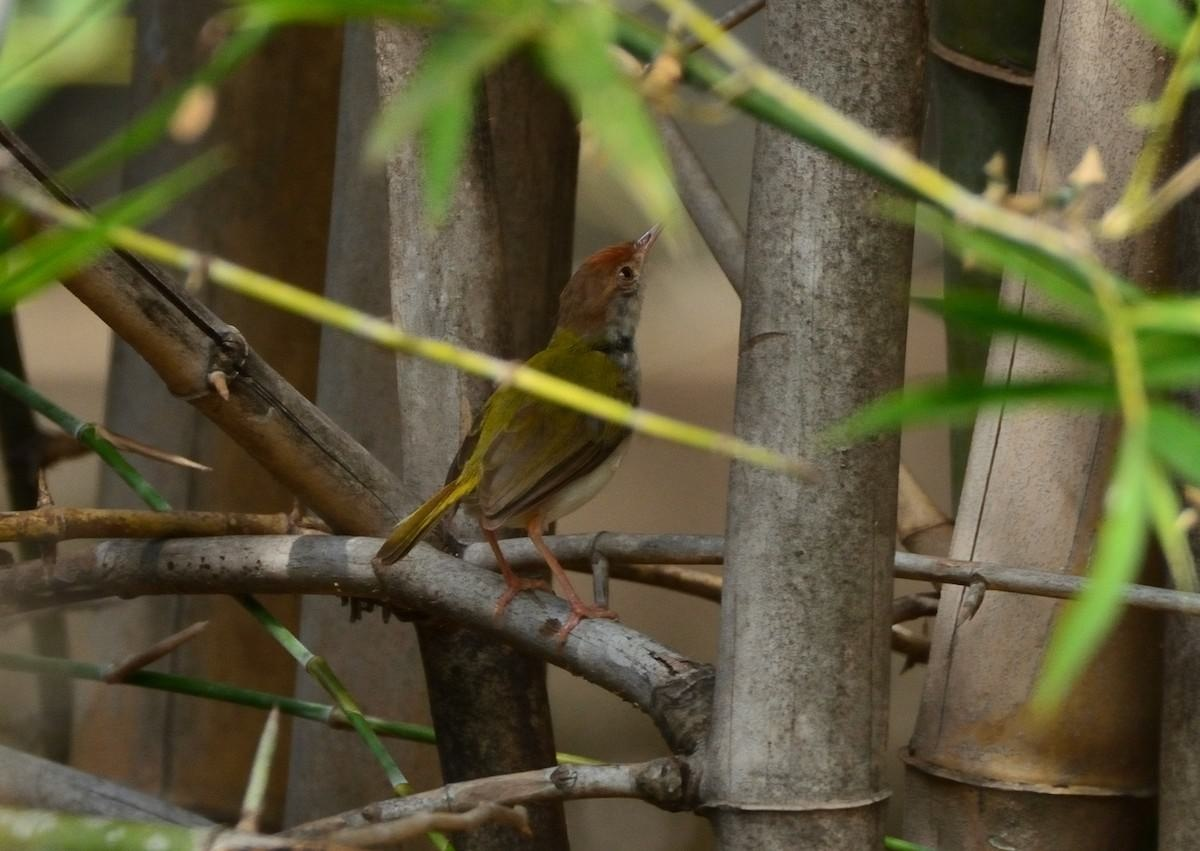tailorbird: (361, 218, 686, 610)
